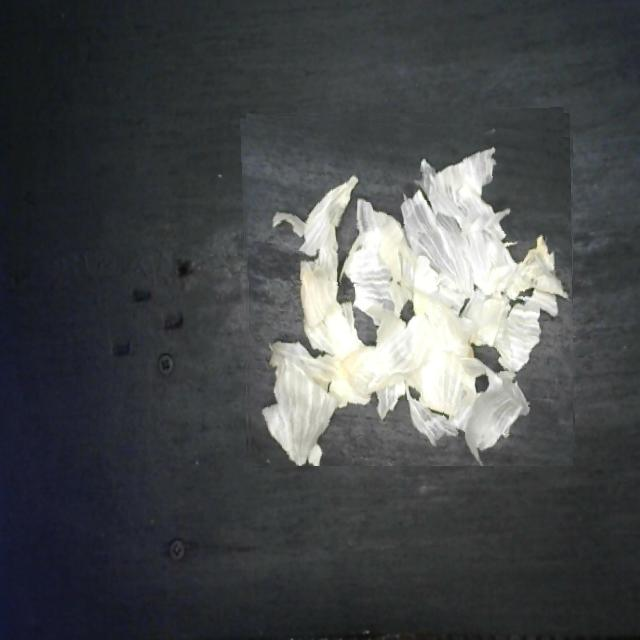biodegradable: (243, 110, 573, 466)
